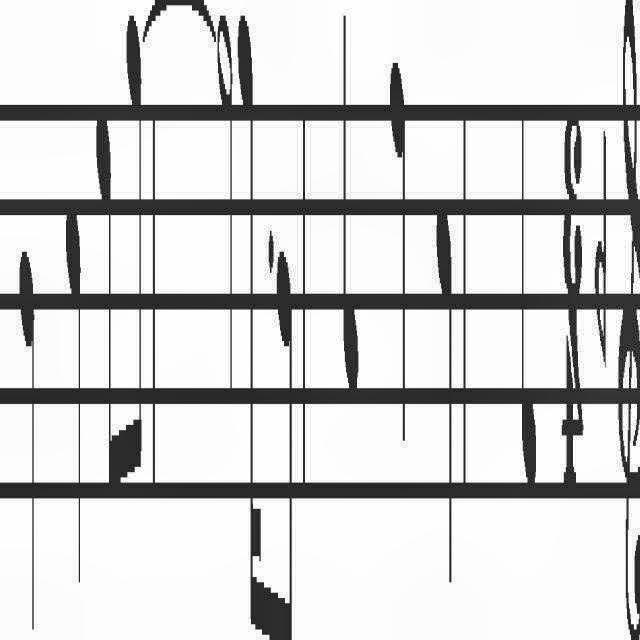Bass-clef: (615, 0, 640, 640), (639, 0, 640, 640)
Bemol: (592, 76, 614, 382)
Eighth-note: (124, 1, 144, 520), (274, 231, 297, 640), (95, 86, 117, 506)
Half-note: (218, 0, 233, 392)
Quarter-note: (513, 41, 545, 586), (57, 154, 87, 634), (336, 0, 368, 392), (10, 237, 40, 618), (386, 37, 410, 440), (432, 178, 456, 580)
Sixteenth-note: (238, 0, 266, 640)
